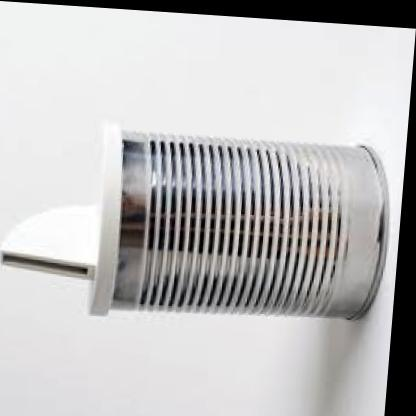Metal: (6, 87, 400, 333)
